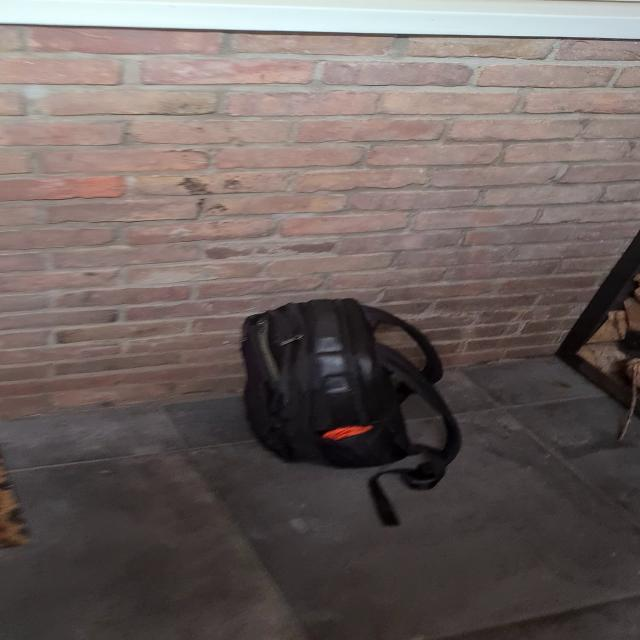backpack: (225, 290, 463, 486)
